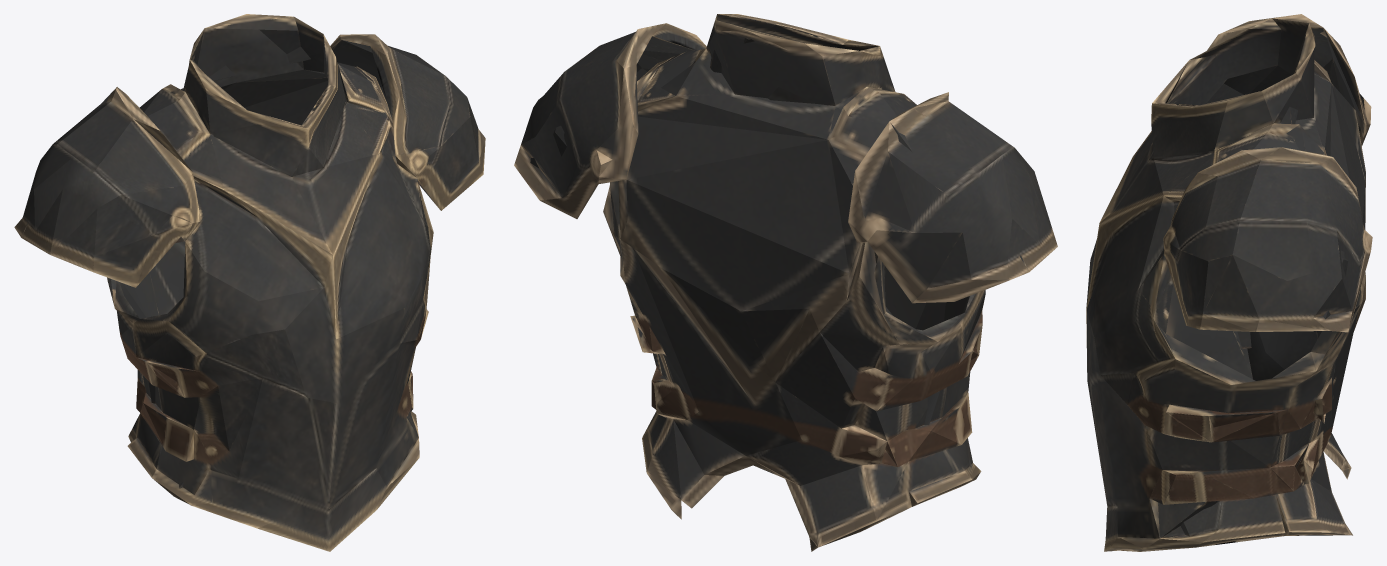
The model's file is SM_SharedGear_Chest.fbx.
3 renders of one model, left to right at view 1: azimuth 30°, elevation 25°; view 2: azimuth 150°, elevation 25°; view 3: azimuth 270°, elevation 25°, orthographic. The views are drawn at different scales.
Visible parts, largest first — view 1: SM_SharedGear_Chest; view 2: SM_SharedGear_Chest; view 3: SM_SharedGear_Chest.
Part boxes in pixels (box(x1,y1,x2,y2)): SM_SharedGear_Chest: box(14, 14, 485, 551); SM_SharedGear_Chest: box(514, 14, 1057, 551); SM_SharedGear_Chest: box(1086, 14, 1372, 551).
Size of the model in its own units: 48 by 47.71 by 24.17.
